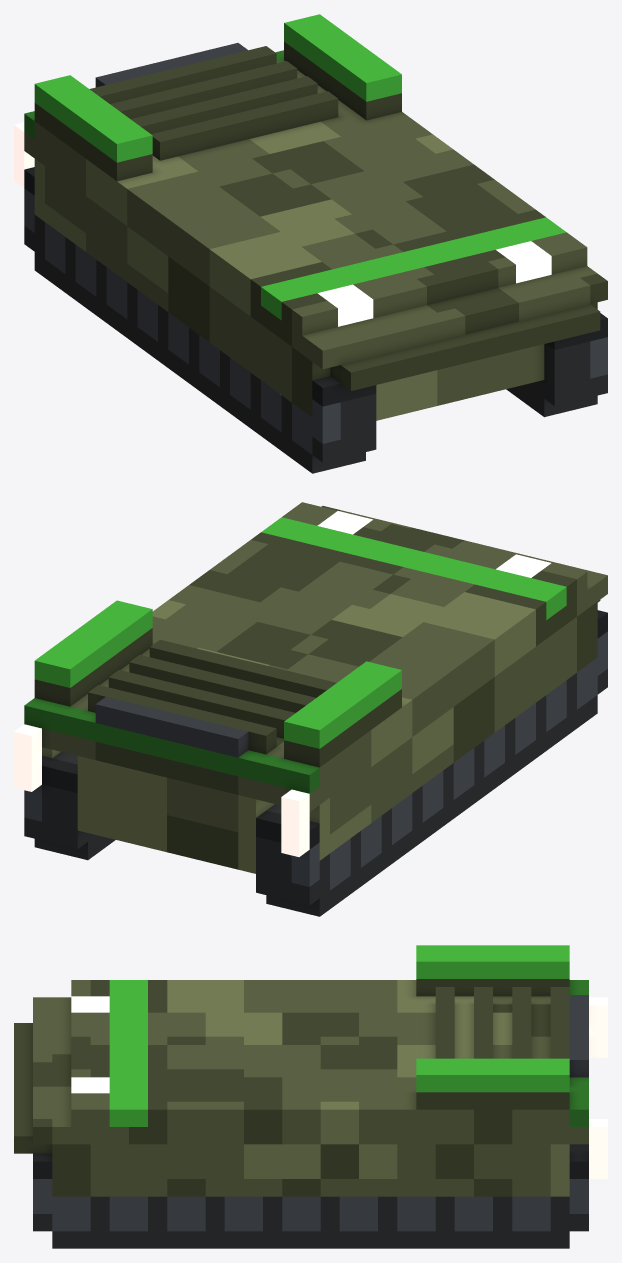
The model's file is cm_tank_h_3.glb.
The picture shows the model from 3 angles, top to bottom: view 1: azimuth 30°, elevation 25°; view 2: azimuth 150°, elevation 25°; view 3: azimuth 270°, elevation 25°; orthographic projection. The views are drawn at different scales.
Parts seen in each view (by area): view 1: cm_tank_h_3_body; view 2: cm_tank_h_3_body; view 3: cm_tank_h_3_body.
Part boxes in pixels (x1,y1,x2,y2): cm_tank_h_3_body: (14,14,607,473); cm_tank_h_3_body: (14,502,607,916); cm_tank_h_3_body: (14,945,607,1248).
Size of the model in its own units: 1 by 0.625 by 1.94.
1 material, 1 textured.
